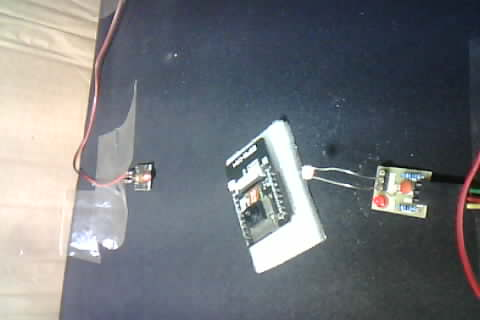esp32: (220, 121, 305, 266)
